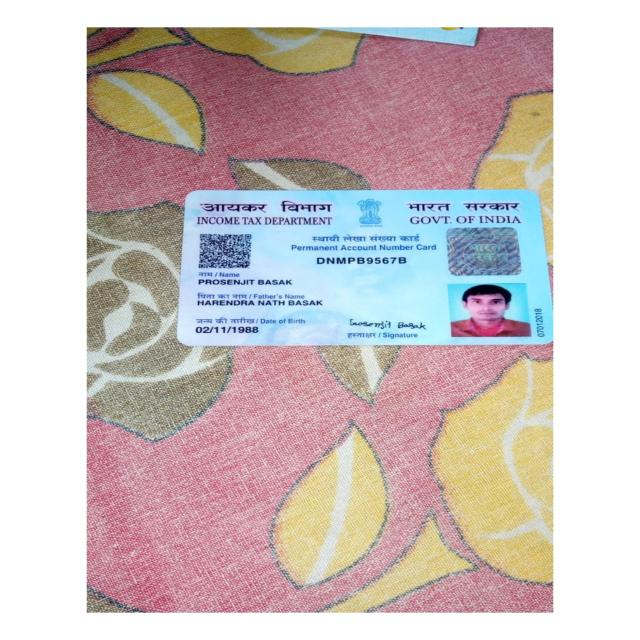pan_card: (190, 193, 552, 343)
